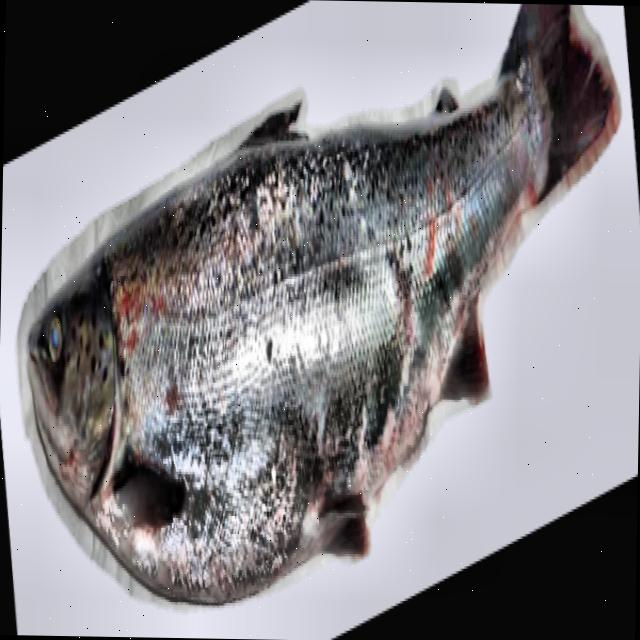mild_red: (114, 83, 543, 598)
